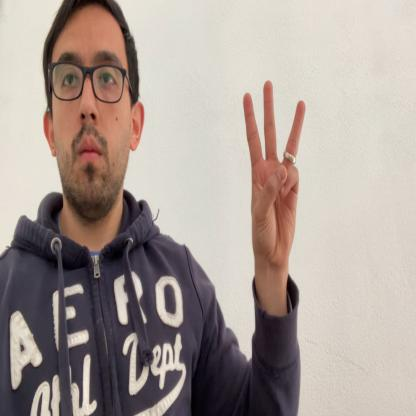W: (242, 78, 305, 274)
